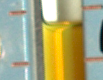border: (80, 4, 103, 12), (7, 9, 29, 17), (10, 60, 32, 68), (83, 56, 103, 64)
liquidlevel: (41, 16, 83, 31)
